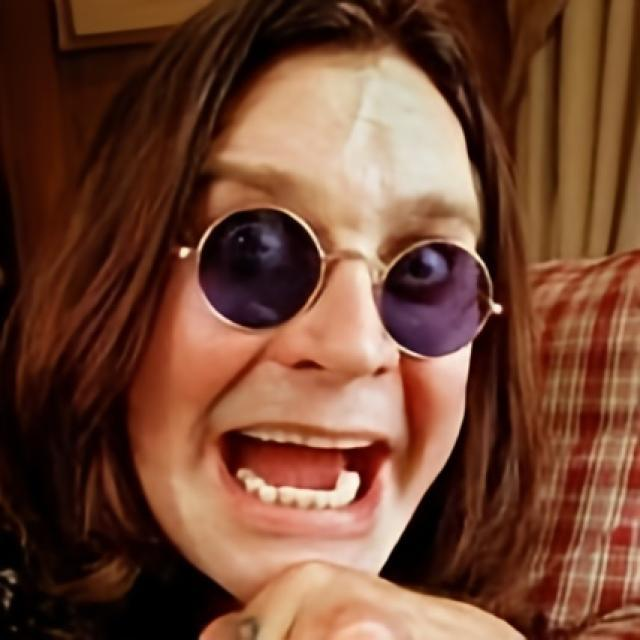fear: (124, 34, 485, 626)
